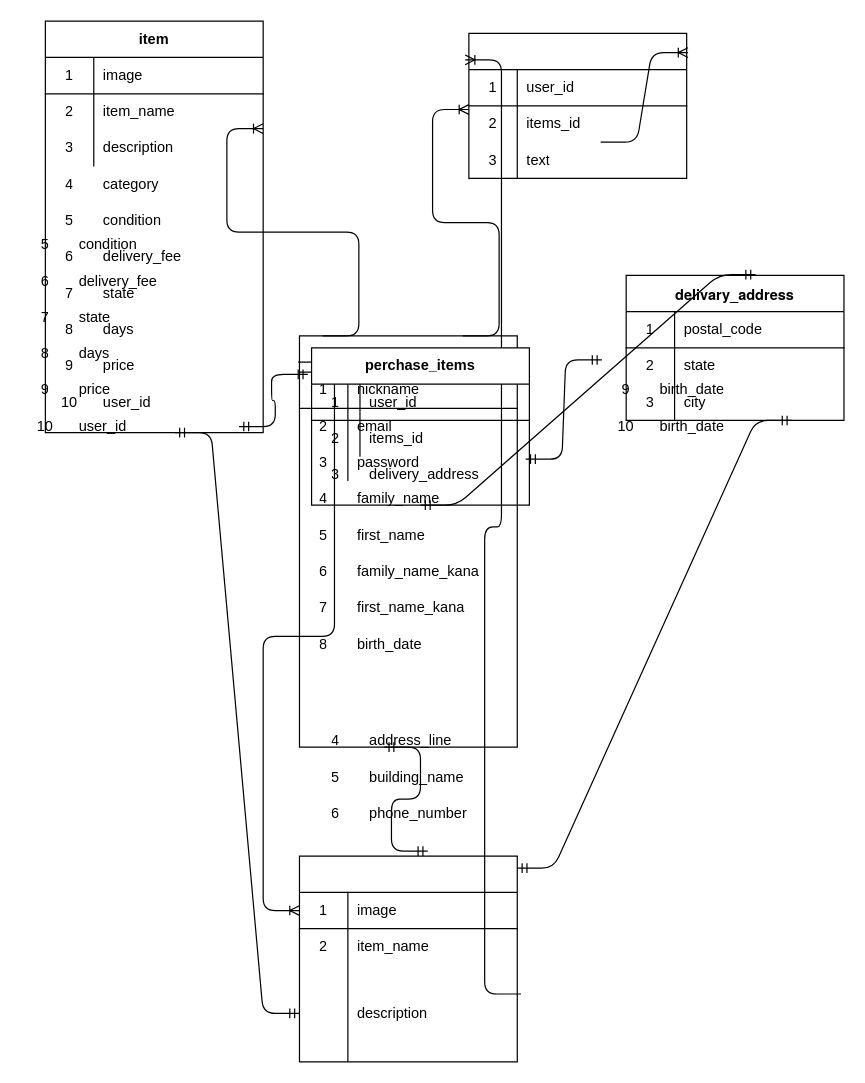
The diagram is 865 pixels wide and 1083 high, and some of its shapes have lost their labels. Each missing label, with the box of its shape:
comment: (468, 32, 687, 178)
purchase_items: (298, 855, 517, 1062)
